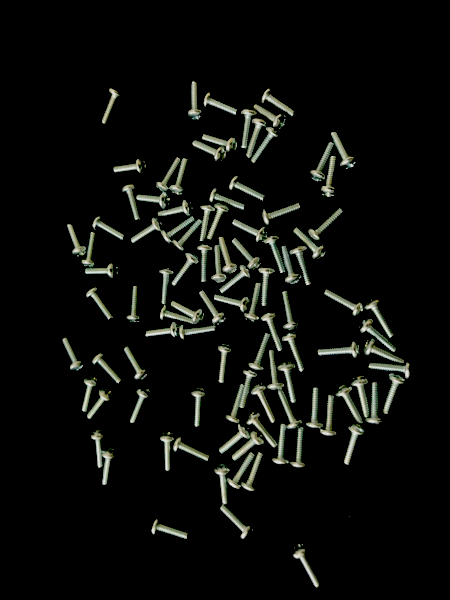shortscrew: (359, 319, 399, 355), (291, 544, 322, 590), (365, 298, 396, 340), (219, 505, 255, 541), (308, 208, 345, 243), (324, 289, 367, 319), (293, 226, 327, 262), (251, 127, 282, 164), (227, 452, 256, 491), (330, 131, 358, 171), (277, 388, 303, 431), (363, 339, 406, 365), (309, 142, 336, 183), (262, 88, 298, 118), (337, 385, 364, 424), (383, 374, 408, 416), (161, 216, 196, 246), (282, 331, 308, 371), (92, 352, 123, 385), (173, 218, 203, 252), (171, 253, 200, 288), (219, 265, 253, 294), (86, 287, 114, 322), (199, 291, 227, 326), (225, 384, 249, 424), (342, 424, 364, 467), (242, 452, 265, 493), (248, 332, 272, 371), (124, 346, 150, 382), (230, 177, 266, 203), (173, 437, 210, 462), (232, 219, 269, 244), (156, 157, 181, 194), (290, 246, 313, 286), (264, 235, 287, 275), (262, 203, 302, 226), (129, 386, 153, 424), (246, 118, 268, 159), (86, 388, 113, 421), (131, 218, 164, 245), (253, 104, 287, 130), (238, 368, 259, 410), (369, 360, 415, 379), (281, 245, 302, 286), (207, 203, 230, 240), (193, 139, 227, 164), (278, 361, 298, 403), (203, 92, 238, 116), (152, 520, 190, 542), (210, 188, 246, 211), (318, 340, 361, 359), (171, 300, 205, 324), (281, 290, 301, 330), (102, 87, 123, 125), (218, 237, 239, 275), (320, 156, 339, 198), (272, 423, 290, 467), (62, 337, 85, 371), (170, 158, 190, 197), (190, 387, 209, 428), (202, 133, 239, 154), (306, 387, 324, 430), (320, 395, 338, 438), (351, 376, 369, 419), (93, 216, 125, 240), (366, 382, 383, 426), (65, 224, 87, 258), (214, 294, 251, 314), (159, 432, 177, 472), (291, 427, 308, 469), (211, 245, 229, 284), (158, 199, 193, 219), (214, 464, 231, 505), (101, 447, 118, 488), (217, 344, 234, 385), (267, 350, 284, 391), (186, 81, 203, 121), (241, 110, 258, 150), (122, 184, 140, 221), (81, 376, 99, 412), (179, 324, 217, 341), (160, 305, 194, 324), (90, 429, 106, 469), (199, 205, 216, 242), (146, 321, 180, 339), (159, 268, 175, 306), (113, 158, 148, 175), (82, 231, 98, 268), (197, 245, 212, 284), (137, 192, 171, 209), (85, 264, 119, 279), (127, 286, 140, 324)
